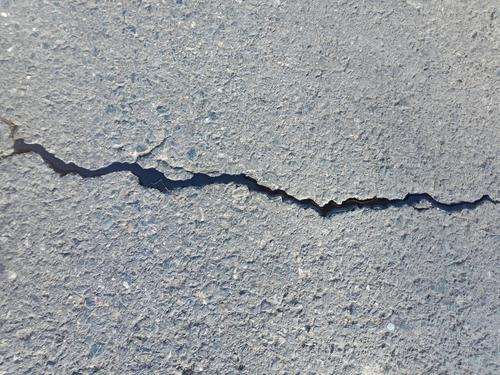Crack: (1, 137, 500, 219)
